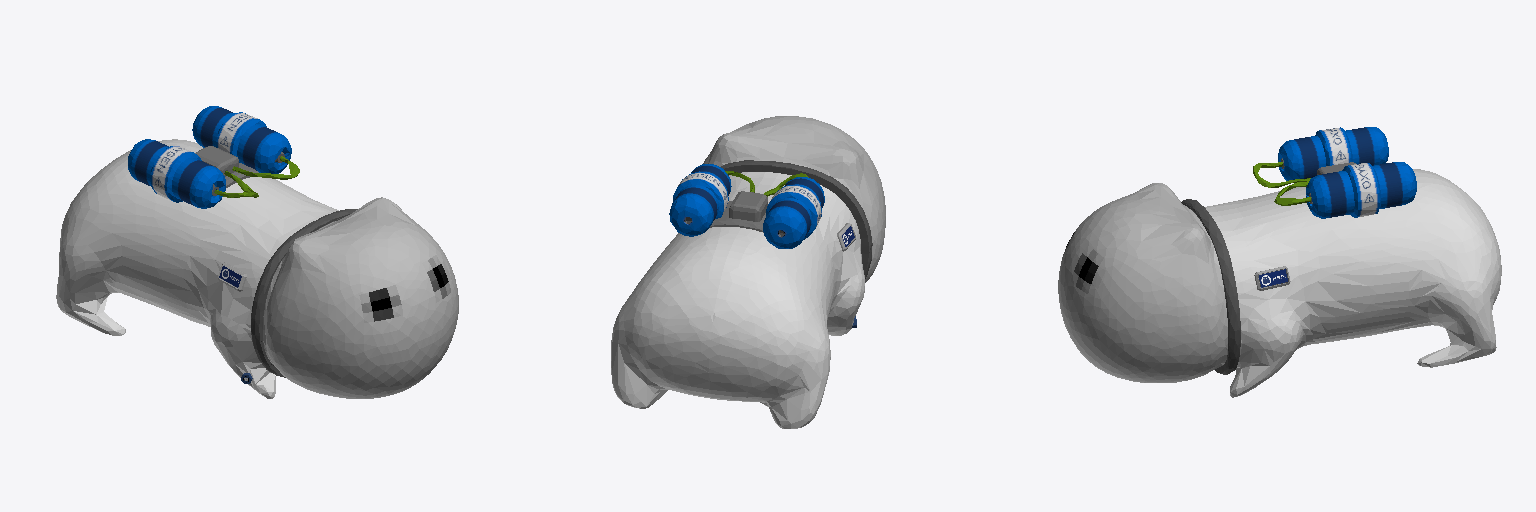
The picture shows the model from 3 angles: view 1: azimuth 30°, elevation 25°; view 2: azimuth 150°, elevation 25°; view 3: azimuth 270°, elevation 25°; orthographic projection.
Visible parts, largest first — view 1: objMesh; view 2: objMesh; view 3: objMesh.
Boxes of the visible parts, x1=… form: objMesh: x1=56, y1=106, x2=458, y2=398; objMesh: x1=611, y1=116, x2=885, y2=428; objMesh: x1=1058, y1=127, x2=1501, y2=397.
Size of the model in its own units: 3.44 by 2.7 by 5.24.
Materials: 2 (1 with a texture image).